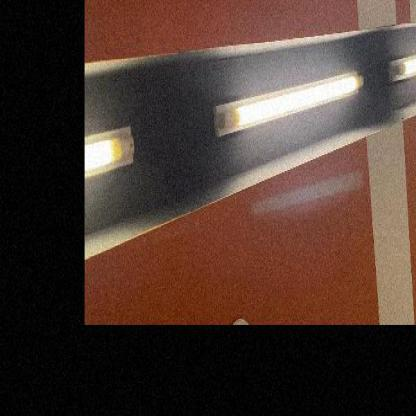light_on: (207, 56, 368, 149), (85, 110, 140, 186), (387, 27, 415, 97)
